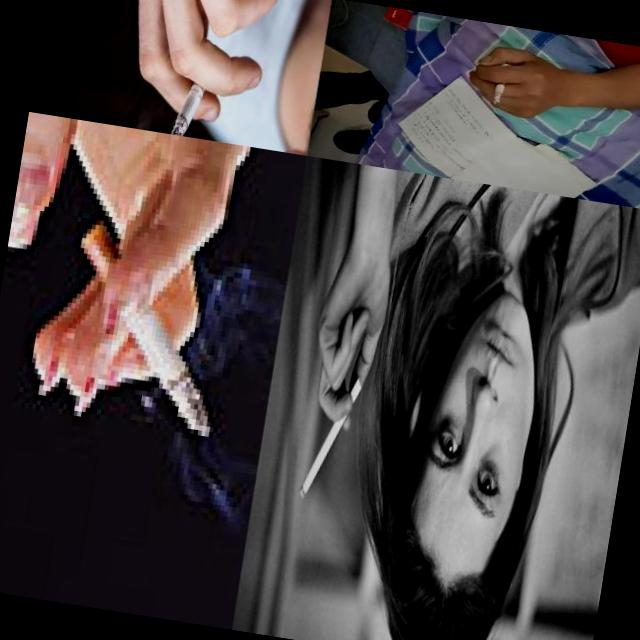smoke: (53, 219, 244, 442), (300, 371, 362, 505), (170, 62, 212, 140), (493, 77, 507, 106)
